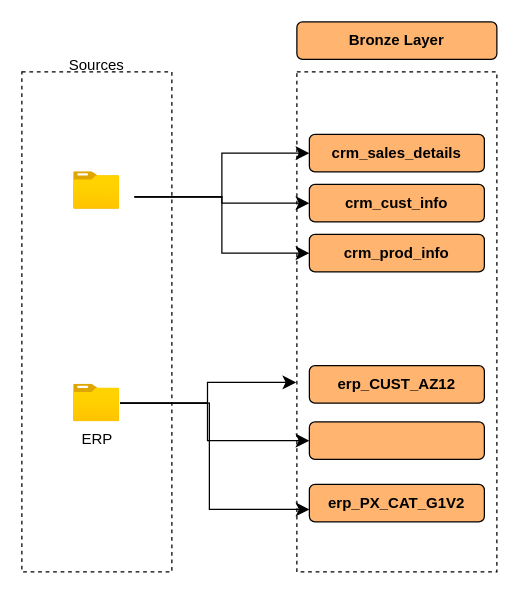
The diagram is 519 pixels wide and 594 high, and some of its shapes have lost their labels. Here are the shapes that lost their labels. From the top down, the centre of each, then its label:
point (96, 190): CRM
point (396, 440): erp_LOC_A101
